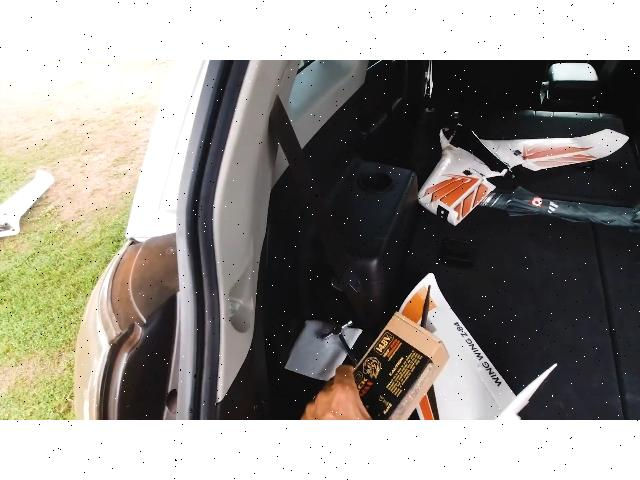Anti-Drone: (407, 82, 633, 253)
